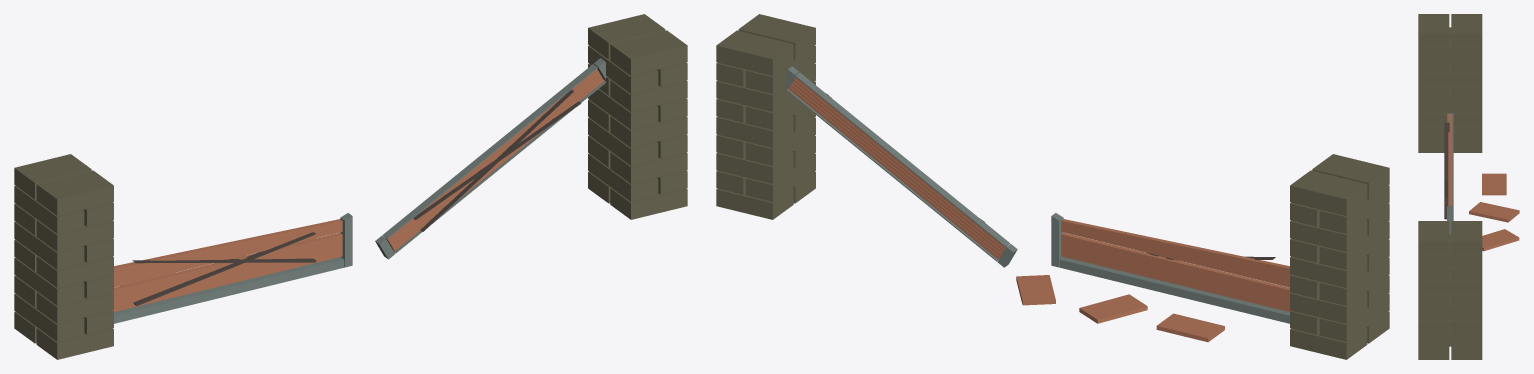
Rendered from SM_PuertaVehiculos_v2_Tablones_e2_MuyDanado_LOD0.fbx.
3 renders of one model, left to right at view 1: azimuth 30°, elevation 25°; view 2: azimuth 150°, elevation 25°; view 3: azimuth 270°, elevation 25°, orthographic. The views are drawn at different scales.
Visible parts, largest first — view 1: SM_bloques.puerta_estados_v10_LOD0, Hoja_O, Hoja_E; view 2: SM_bloques.puerta_estados_v10_LOD0, Hoja_O, Hoja_E; view 3: SM_bloques.puerta_estados_v10_LOD0, Hoja_O.
Boxes of the visible parts, <box> form: SM_bloques.puerta_estados_v10_LOD0: <box>14,14,687,359</box>; Hoja_O: <box>113,213,352,323</box>; Hoja_E: <box>375,58,607,259</box>; SM_bloques.puerta_estados_v10_LOD0: <box>716,14,1389,359</box>; Hoja_O: <box>1051,213,1290,323</box>; Hoja_E: <box>786,66,1017,267</box>; SM_bloques.puerta_estados_v10_LOD0: <box>1418,14,1519,359</box>; Hoja_O: <box>1444,113,1453,234</box>.
Bounding box in the file's own units: 9.78 × 2.45 × 1.84.
